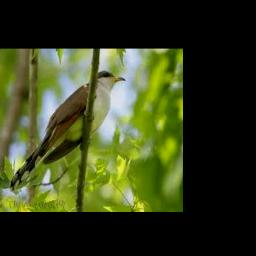Cuckoo: (10, 70, 126, 189)
